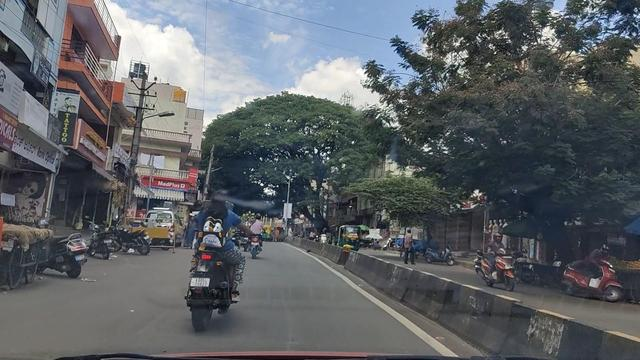LMV: (178, 179, 250, 331)
